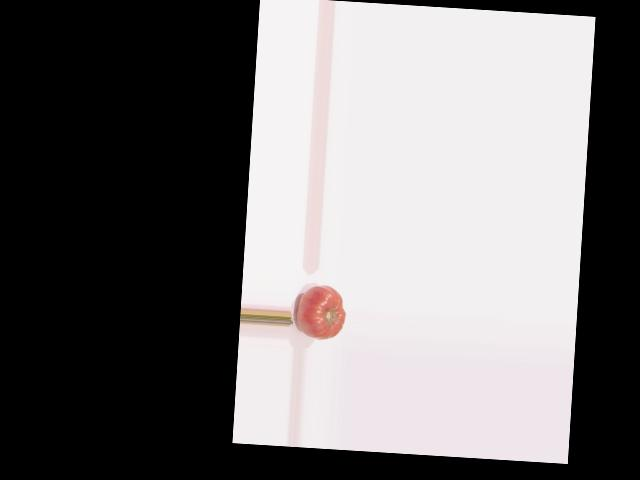tomato: (296, 284, 346, 340)
